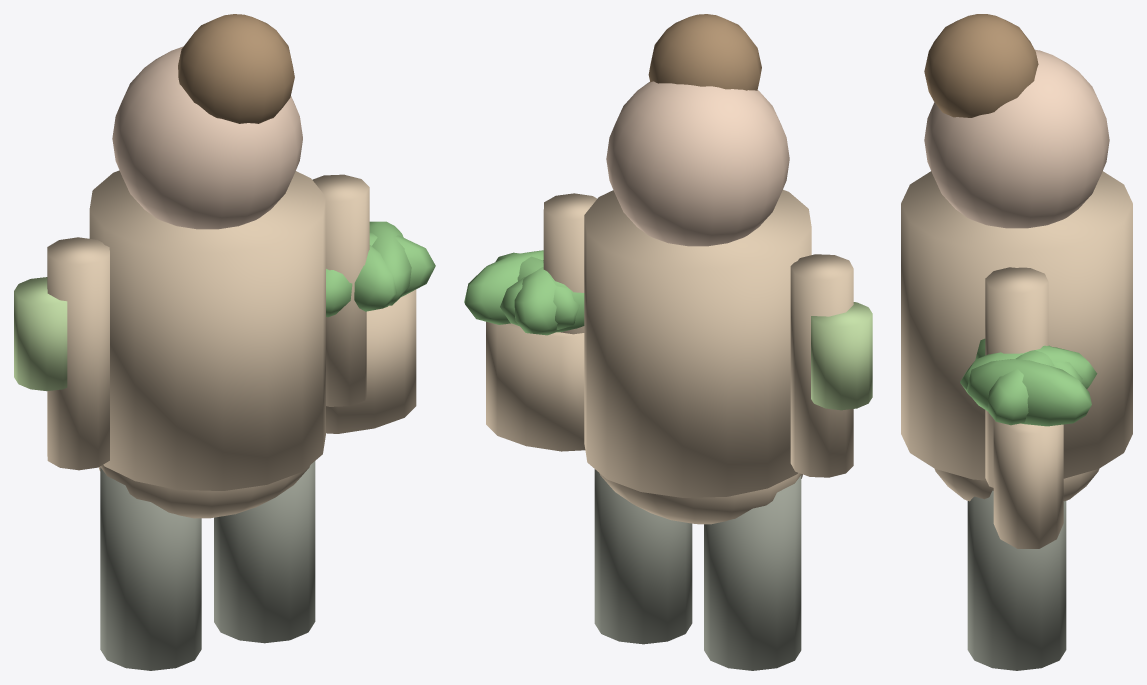
File: GranolaMom.glb
3 renders of one model, left to right at view 1: azimuth 30°, elevation 25°; view 2: azimuth 150°, elevation 25°; view 3: azimuth 270°, elevation 25°, orthographic. The views are drawn at different scales.
Visible parts, largest first — view 1: GranolaMom; view 2: GranolaMom; view 3: GranolaMom.
Boxes of the visible parts, left/top/right/bottom form: GranolaMom: left=14, top=14, right=435, bottom=670; GranolaMom: left=464, top=14, right=872, bottom=670; GranolaMom: left=901, top=14, right=1132, bottom=670.
Bounding box in the file's own units: 0.7769 × 1.16 × 0.4.
